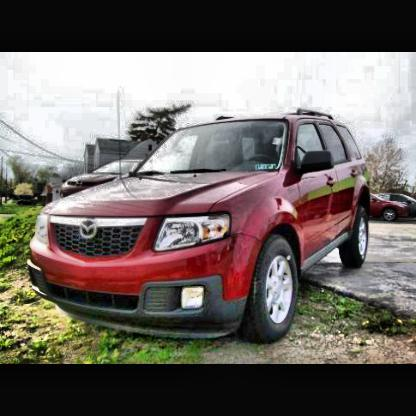Mazda Tribute SUV 2011: (29, 106, 374, 341)
